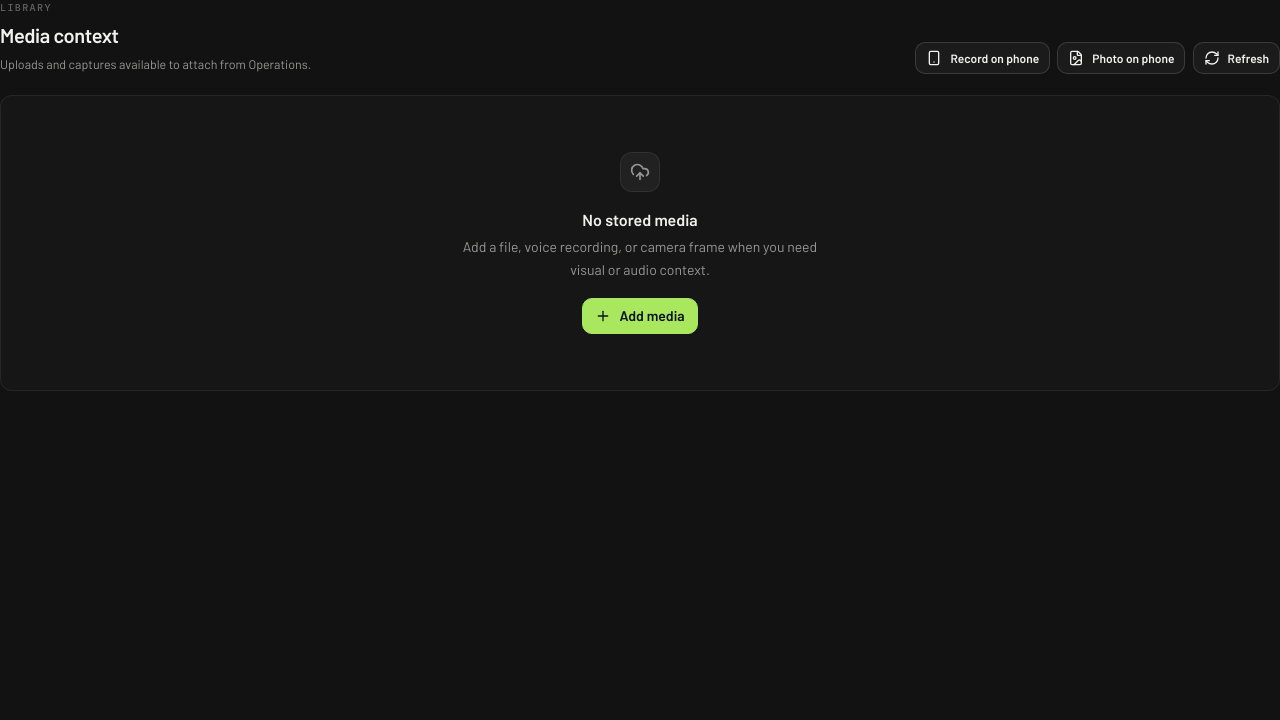
Test: keeps creation controls out of the library until Add media is requested
Expected: the heading "Media context" is shown, [0,23,119,47]
Expected: the heading "No stored media" is shown, [582,208,698,232]
Click the button "Add media" at (640, 316), box [582,298,698,334]
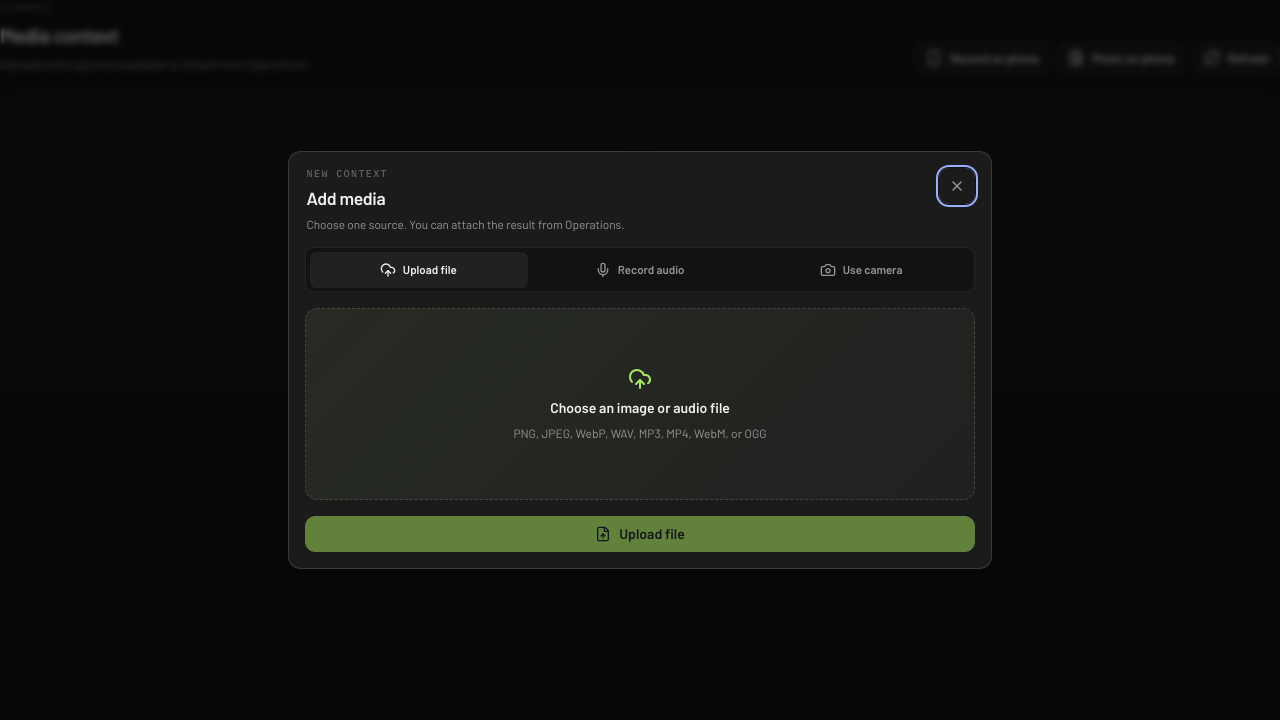
Expected: the dialog "Add media" is shown, [288,151,992,569]
Expected: the text "Choose an image or audio file" is shown, [550,398,730,418]
